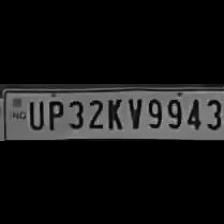2: (84, 95, 104, 129)
3: (202, 94, 222, 130), (64, 96, 84, 128)
4: (182, 94, 202, 130)
9: (144, 95, 162, 129), (164, 94, 182, 128)
K: (103, 94, 123, 130)
P: (44, 96, 64, 130)
U: (24, 97, 43, 130)
V: (124, 94, 144, 130)
